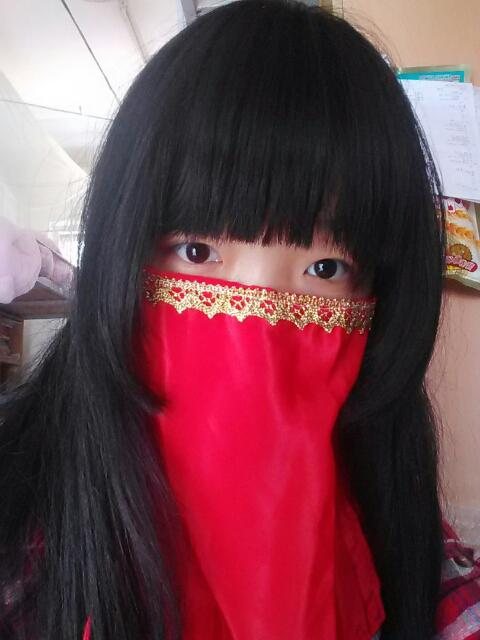OK: (137, 214, 351, 428)
